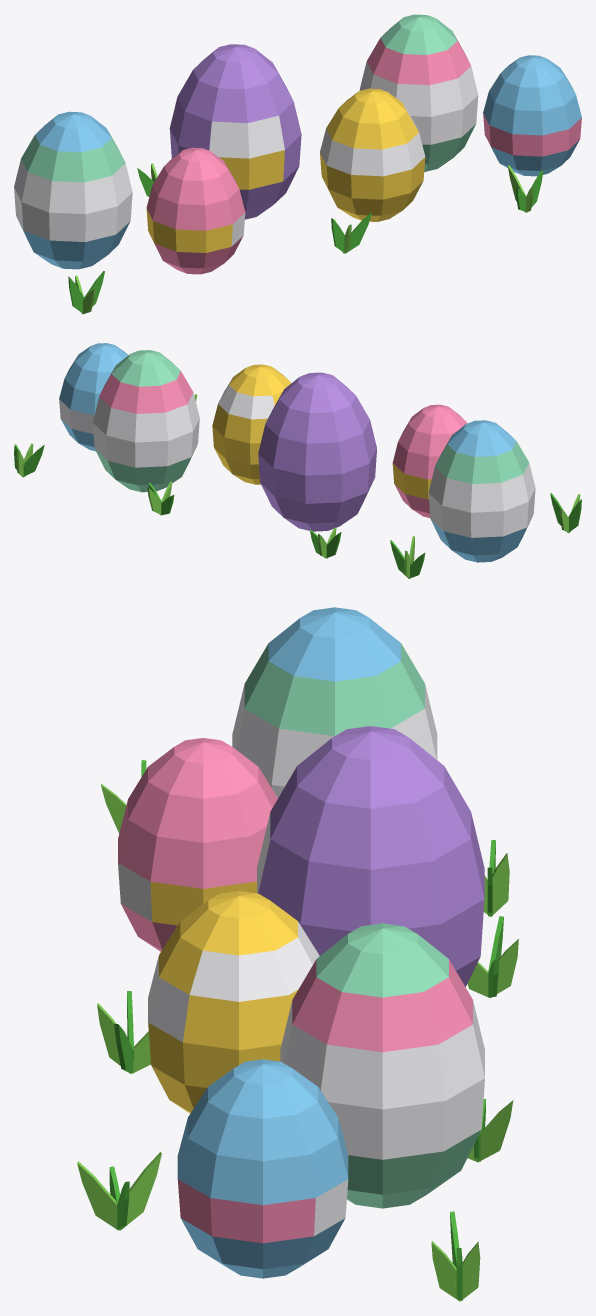
The model's file is eggs-2x1.glb.
The picture shows the model from 3 angles, top to bottom: view 1: azimuth 30°, elevation 25°; view 2: azimuth 150°, elevation 25°; view 3: azimuth 270°, elevation 25°; orthographic projection. The views are drawn at different scales.
Parts seen in each view (by area): view 1: eggs-2x1; view 2: eggs-2x1; view 3: eggs-2x1.
Part boxes in pixels (x1,y1,x2,y2): eggs-2x1: [14, 14, 581, 314]; eggs-2x1: [14, 343, 581, 578]; eggs-2x1: [77, 607, 518, 1301].
Size of the model in its own units: 1.9 by 0.5647 by 0.7449.
Materials: 1 (1 with a texture image).
